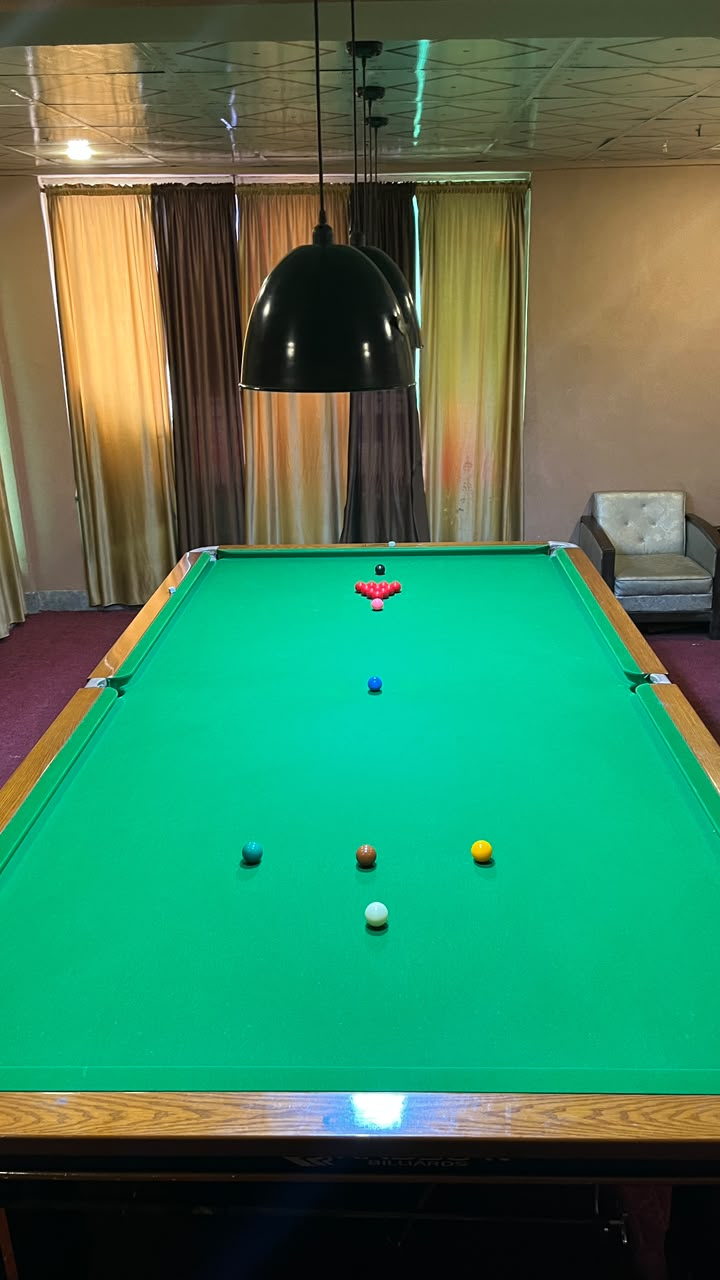Snooker: (354, 581, 401, 598)
